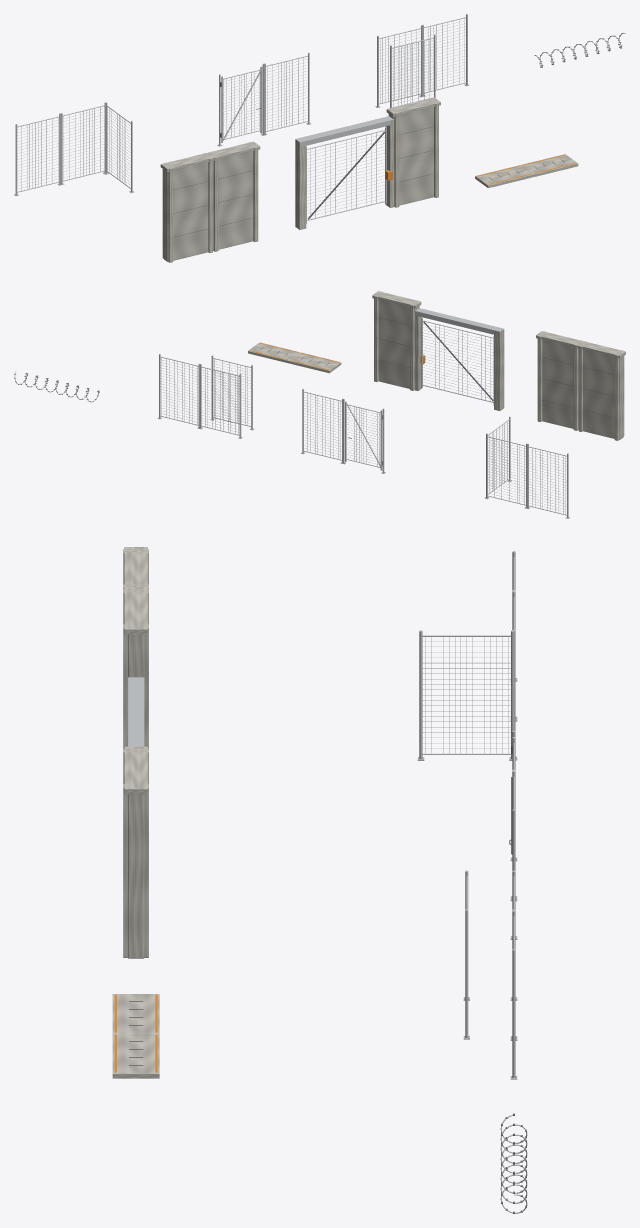
File: prison-complex-builder-prison-connector-cases-3-35069d0f__25729.glb
The picture shows the model from 3 angles, top to bottom: view 1: azimuth 30°, elevation 25°; view 2: azimuth 150°, elevation 25°; view 3: azimuth 270°, elevation 25°; orthographic projection. The views are drawn at different scales.
Parts seen in each view (by area): view 1: 008-high-perimeter-wall/0, 009-high-perimeter-wall/0, 011-high-perimeter-wall/0, 004-double-fence-run/0, 000-perimeter-fence-corner/0, 010-vehicle-sally-port-gate/sally-port-gate/steelGalv, 008-high-perimeter-wall/1, 010-vehicle-sally-port-gate/0, 009-high-perimeter-wall/1, 001-perimeter-fence-straight/0, 011-high-perimeter-wall/1, 003-perimeter-fence-straight/0 (+5 smaller); view 2: 008-high-perimeter-wall/0, 011-high-perimeter-wall/0, 009-high-perimeter-wall/0, 004-double-fence-run/0, 000-perimeter-fence-corner/0, 010-vehicle-sally-port-gate/sally-port-gate/steelGalv, 008-high-perimeter-wall/1, 010-vehicle-sally-port-gate/0, 009-high-perimeter-wall/1, 011-high-perimeter-wall/1, 001-perimeter-fence-straight/0, 005-perimeter-fence-straight/0 (+5 smaller); view 3: 000-perimeter-fence-corner/0, 011-high-perimeter-wall/1, 011-high-perimeter-wall/0, 009-high-perimeter-wall/1, 013-patrol-path-tile/0, 012-patrol-path-tile/0, 010-vehicle-sally-port-gate/1, 008-high-perimeter-wall/1.
Boxes of the visible parts, box(x1,y1,x2,y2) form: 008-high-perimeter-wall/0: box(163, 162, 208, 261); 009-high-perimeter-wall/0: box(213, 151, 253, 250); 011-high-perimeter-wall/0: box(389, 107, 433, 205); 004-double-fence-run/0: box(377, 25, 435, 107); 000-perimeter-fence-corner/0: box(61, 102, 132, 191); 010-vehicle-sally-port-gate/sally-port-gate/steelGalv: box(306, 127, 386, 223); 008-high-perimeter-wall/1: box(160, 153, 214, 262); 010-vehicle-sally-port-gate/0: box(295, 120, 394, 229); 009-high-perimeter-wall/1: box(206, 141, 260, 251); 001-perimeter-fence-straight/0: box(15, 113, 61, 195); 011-high-perimeter-wall/1: box(386, 97, 440, 207); 003-perimeter-fence-straight/0: box(264, 52, 309, 134); 008-high-perimeter-wall/0: box(583, 349, 623, 439); 011-high-perimeter-wall/0: box(378, 300, 419, 389); 009-high-perimeter-wall/0: box(542, 340, 578, 429); 004-double-fence-run/0: box(200, 355, 252, 437); 000-perimeter-fence-corner/0: box(486, 416, 527, 507); 010-vehicle-sally-port-gate/sally-port-gate/steelGalv: box(421, 317, 493, 405); 008-high-perimeter-wall/1: box(577, 341, 625, 440); 010-vehicle-sally-port-gate/0: box(415, 315, 504, 410); 009-high-perimeter-wall/1: box(536, 331, 582, 430); 011-high-perimeter-wall/1: box(372, 291, 421, 390); 001-perimeter-fence-straight/0: box(527, 443, 568, 517); 005-perimeter-fence-straight/0: box(159, 354, 199, 427); 000-perimeter-fence-corner/0: box(419, 591, 515, 759); 011-high-perimeter-wall/1: box(123, 746, 148, 957); 011-high-perimeter-wall/0: box(128, 795, 144, 958); 009-high-perimeter-wall/1: box(123, 587, 148, 748); 013-patrol-path-tile/0: box(112, 1034, 159, 1078); 012-patrol-path-tile/0: box(112, 994, 159, 1033); 010-vehicle-sally-port-gate/1: box(128, 677, 144, 746); 008-high-perimeter-wall/1: box(123, 547, 148, 589).
Size of the model in its own units: 27.05 by 4 by 8.78.
4 materials, 1 textured.
